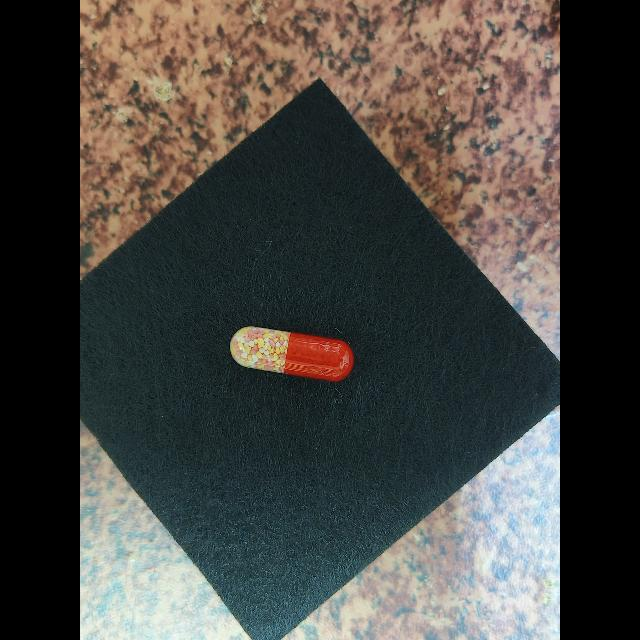Intact Capsule: (230, 327, 354, 382)
